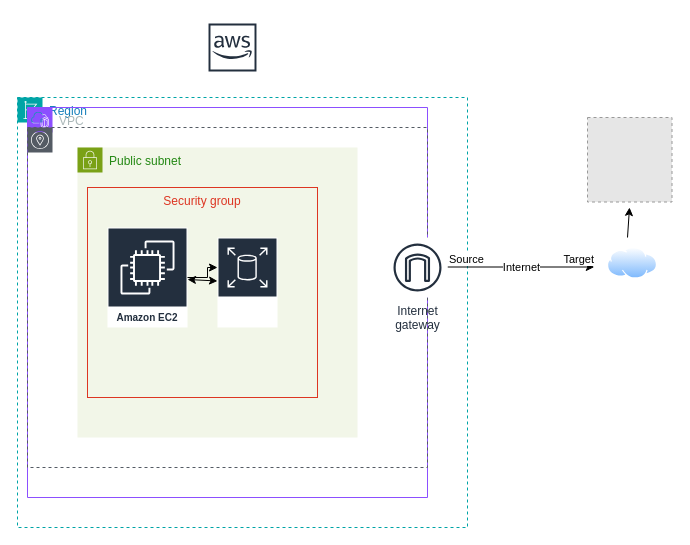
The diagram is 690 pixels wide and 545 high, and some of its shapes have lost their labels. Grey dashed boxes stand in for pictures. The shapes that lost their labels are listed below. From the top down, each one's box as (x1, y1, x2, y2) in pixels, then its label:
(202, 16, 262, 78): AWS Cloud
(26, 126, 428, 468): Availability zone
(216, 236, 278, 328): Amazon Elastic Block Store
